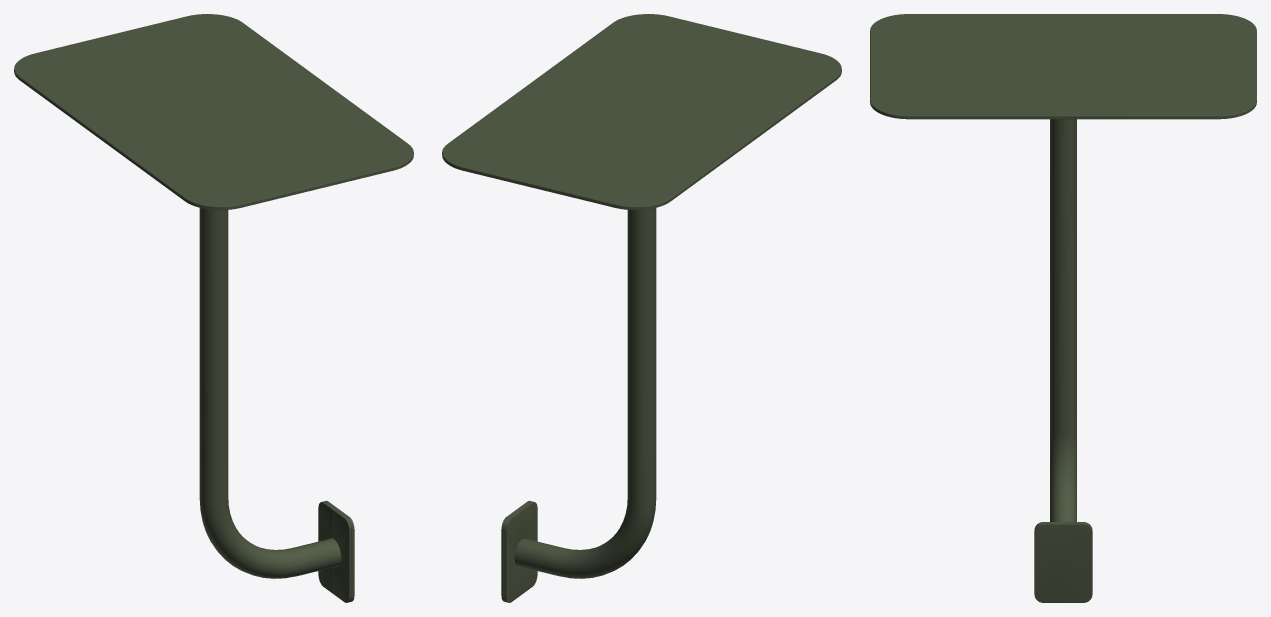
Rendered from coffeetable_susp_rect.glb.
3 views of the same model, side by side, from view 1: azimuth 30°, elevation 25°; view 2: azimuth 150°, elevation 25°; view 3: azimuth 270°, elevation 25° (orthographic). The views are drawn at different scales.
Visible parts, largest first — view 1: rb_coffeetable_susp_rect_green; view 2: rb_coffeetable_susp_rect_green; view 3: rb_coffeetable_susp_rect_green.
Part boxes in pixels (box(x1,y1,x2,y2)): rb_coffeetable_susp_rect_green: box(14, 14, 413, 602); rb_coffeetable_susp_rect_green: box(442, 14, 841, 602); rb_coffeetable_susp_rect_green: box(870, 14, 1256, 602).
Bounding box in the file's own units: 0.265 × 0.549 × 0.4.
